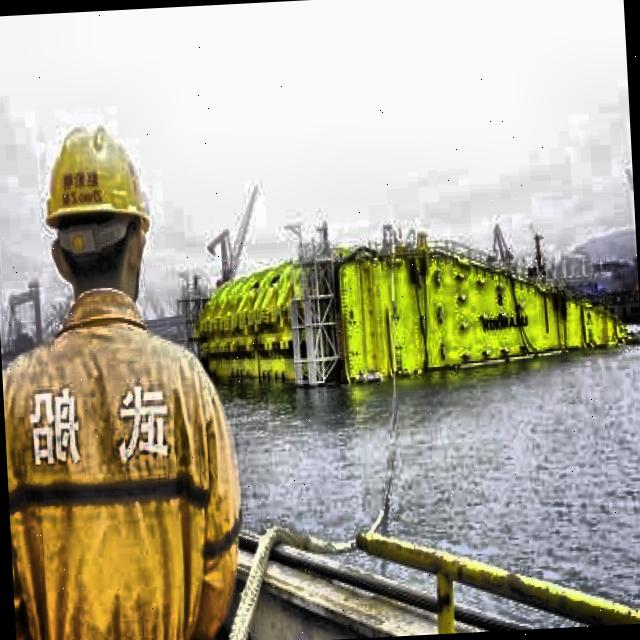helmet: (19, 78, 169, 328)
